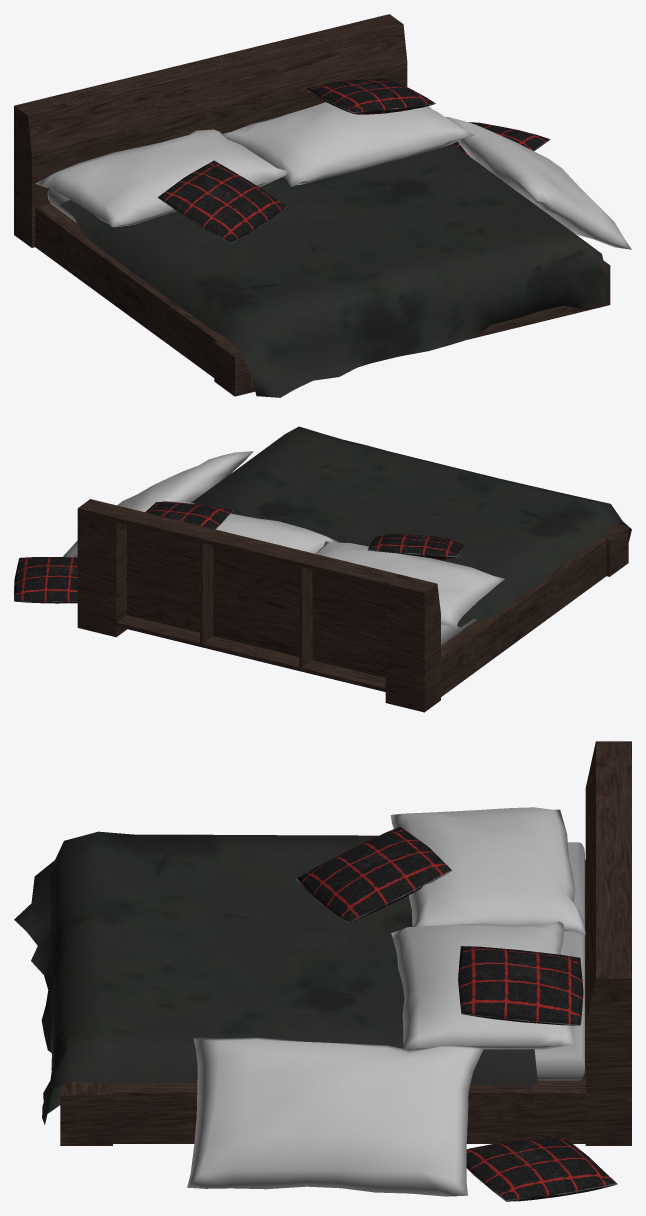
File: bed.glb
The picture shows the model from 3 angles, top to bottom: view 1: azimuth 30°, elevation 25°; view 2: azimuth 150°, elevation 25°; view 3: azimuth 270°, elevation 25°; orthographic projection. The views are drawn at different scales.
Visible parts, largest first — view 1: Bed_Bed_Blanket_0, Bed_Bed_DW_0, Pillow_2.002_1_0, Plane.001_2_0; view 2: Bed_Bed_DW_0, Bed_Bed_Blanket_0, Pillow_2.002_1_0, Plane.001_2_0; view 3: Bed_Bed_Blanket_0, Pillow_2.002_1_0, Bed_Bed_DW_0, Plane.001_2_0, Bed_M_Mattress_0.
Boxes of the visible parts, x1,y1,x2,y2 form: Bed_Bed_Blanket_0: [59, 143, 607, 397]; Bed_Bed_DW_0: [14, 14, 610, 396]; Pillow_2.002_1_0: [35, 86, 631, 249]; Plane.001_2_0: [157, 78, 550, 243]; Bed_Bed_DW_0: [77, 499, 628, 712]; Bed_Bed_Blanket_0: [191, 426, 631, 627]; Pillow_2.002_1_0: [63, 451, 505, 627]; Plane.001_2_0: [14, 501, 463, 603]; Bed_Bed_Blanket_0: [14, 831, 585, 1124]; Pillow_2.002_1_0: [187, 807, 585, 1196]; Bed_Bed_DW_0: [60, 741, 631, 1145]; Plane.001_2_0: [296, 826, 617, 1201]; Bed_M_Mattress_0: [534, 842, 584, 1080].
Size of the model in its own units: 288 by 72.59 by 241.
5 materials, 4 textured.
